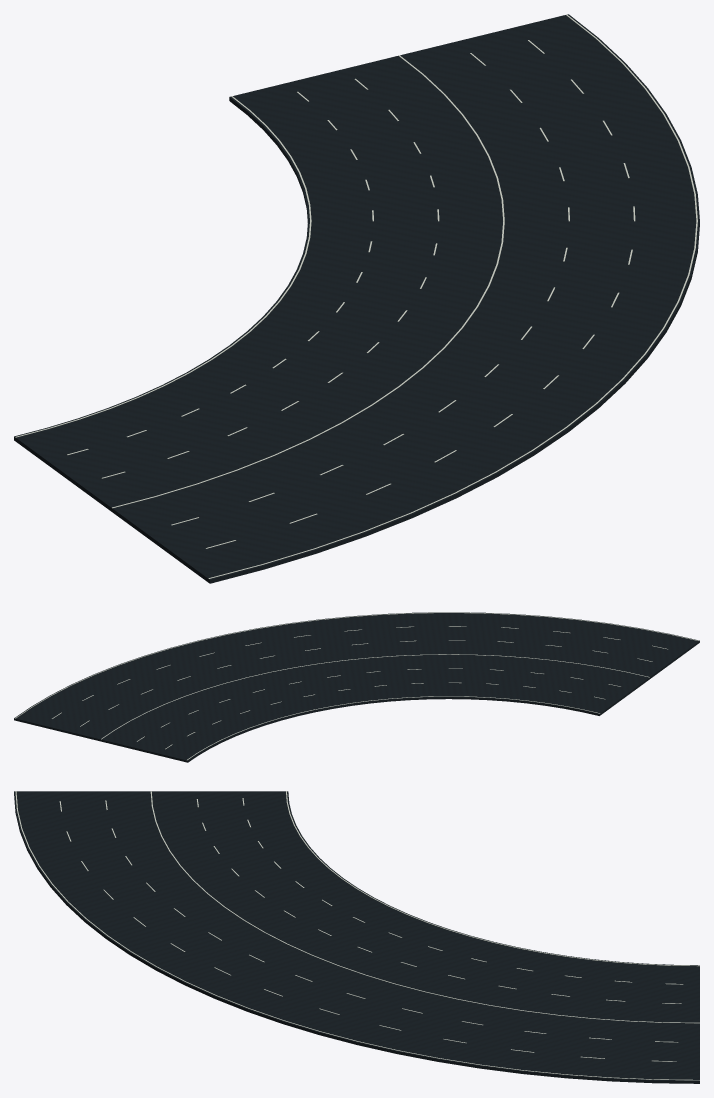
File: Transit_Road_6L_Curve90_R36.glb
3 renders of one model, top to bottom at view 1: azimuth 30°, elevation 25°; view 2: azimuth 150°, elevation 25°; view 3: azimuth 270°, elevation 25°, orthographic. The views are drawn at different scales.
Parts seen in each view (by area): view 1: Transit_Road_6L_Curve90_R36_Surface, Transit_Road_6L_Curve90_R36_MarkEdge-1, Transit_Road_6L_Curve90_R36_MarkLane3, Transit_Road_6L_Curve90_R36_MarkEdge+1; view 2: Transit_Road_6L_Curve90_R36_Surface, Transit_Road_6L_Curve90_R36_MarkEdge-1, Transit_Road_6L_Curve90_R36_MarkLane3, Transit_Road_6L_Curve90_R36_MarkEdge+1; view 3: Transit_Road_6L_Curve90_R36_Surface, Transit_Road_6L_Curve90_R36_MarkEdge-1, Transit_Road_6L_Curve90_R36_MarkLane3, Transit_Road_6L_Curve90_R36_MarkEdge+1.
Boxes of the visible parts, x1=… form: Transit_Road_6L_Curve90_R36_Surface: x1=14, y1=14, x2=699, y2=583; Transit_Road_6L_Curve90_R36_MarkEdge-1: x1=208, y1=14, x2=697, y2=578; Transit_Road_6L_Curve90_R36_MarkLane3: x1=112, y1=55, x2=504, y2=508; Transit_Road_6L_Curve90_R36_MarkEdge+1: x1=15, y1=96, x2=311, y2=437; Transit_Road_6L_Curve90_R36_Surface: x1=14, y1=612, x2=699, y2=762; Transit_Road_6L_Curve90_R36_MarkEdge-1: x1=15, y1=612, x2=698, y2=718; Transit_Road_6L_Curve90_R36_MarkLane3: x1=101, y1=654, x2=649, y2=739; Transit_Road_6L_Curve90_R36_MarkEdge+1: x1=187, y1=696, x2=599, y2=760; Transit_Road_6L_Curve90_R36_Surface: x1=14, y1=791, x2=699, y2=1083; Transit_Road_6L_Curve90_R36_MarkEdge-1: x1=15, y1=791, x2=699, y2=1080; Transit_Road_6L_Curve90_R36_MarkLane3: x1=150, y1=791, x2=699, y2=1023; Transit_Road_6L_Curve90_R36_MarkEdge+1: x1=286, y1=791, x2=699, y2=966.
Bounding box in the file's own units: 45 × 0.212 × 45.
2 materials, 1 textured.
